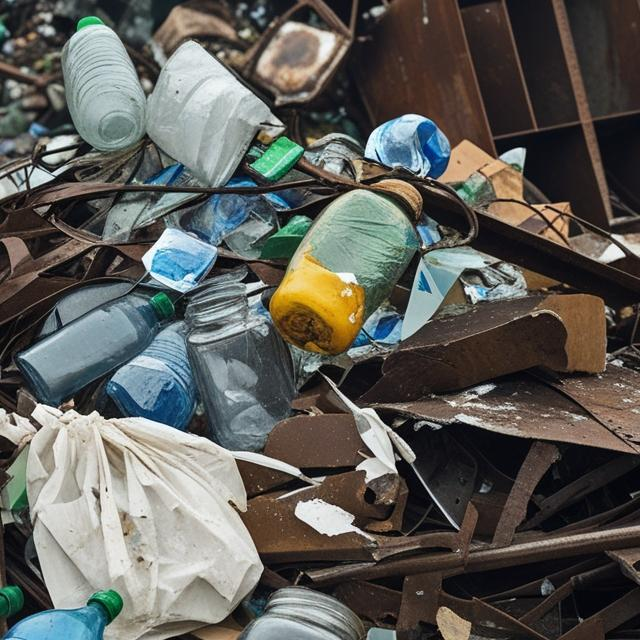plastic: (63, 8, 147, 152), (0, 594, 171, 640)
